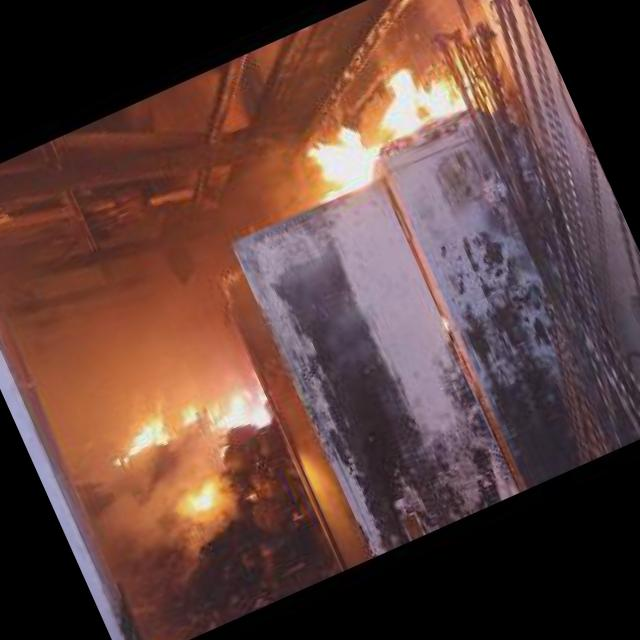fire: (282, 50, 488, 201), (200, 376, 278, 446), (96, 405, 175, 467), (172, 477, 220, 519), (172, 401, 204, 429)
